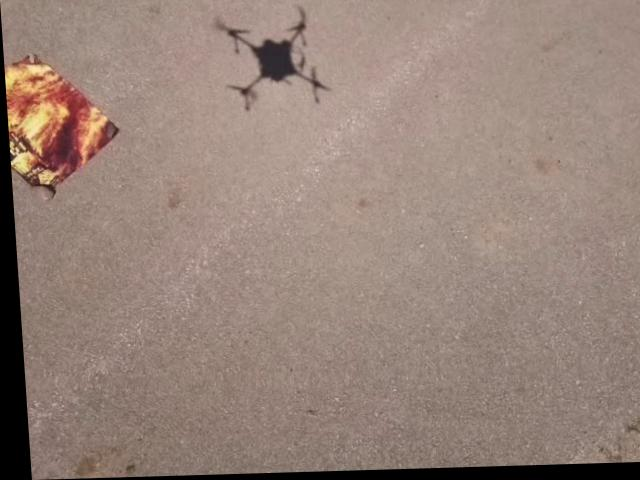fire-poster: (3, 50, 123, 201)
